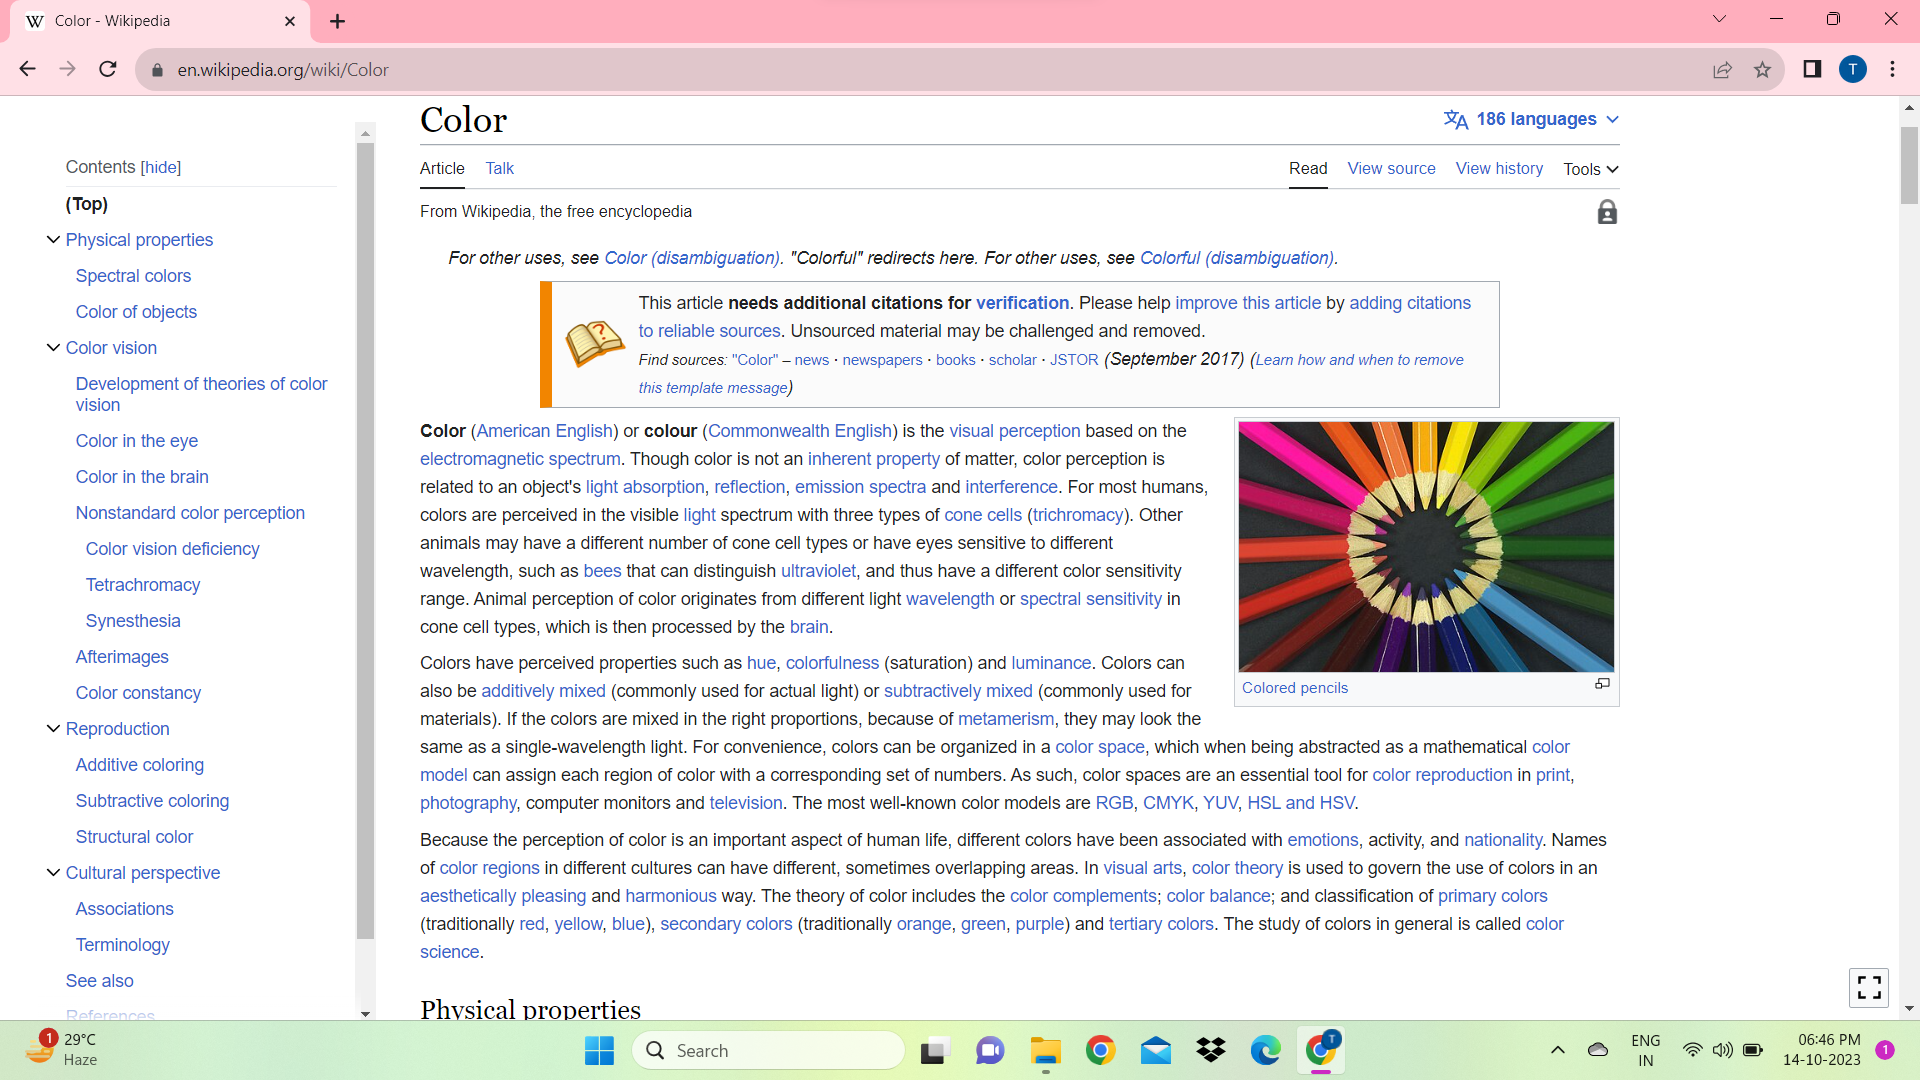Image: (1232, 410, 1622, 680)
Paragraph: (406, 643, 1603, 818), (399, 410, 1217, 632), (401, 828, 1646, 966), (611, 283, 1508, 401), (444, 242, 1361, 276), (63, 373, 341, 414), (65, 496, 308, 529), (412, 198, 721, 222), (63, 850, 239, 884), (406, 99, 535, 140), (78, 537, 274, 563), (73, 464, 227, 494), (58, 787, 235, 813), (56, 639, 186, 673), (76, 751, 205, 781), (65, 229, 231, 252), (56, 155, 222, 177), (65, 928, 192, 956), (76, 574, 218, 598), (1344, 153, 1441, 188), (65, 298, 209, 321), (63, 427, 201, 451), (69, 682, 222, 703), (78, 608, 201, 634), (73, 824, 196, 850), (67, 893, 188, 919), (56, 334, 166, 360), (69, 263, 198, 285), (58, 958, 138, 992), (1450, 160, 1540, 190), (65, 718, 179, 740), (1262, 155, 1335, 177), (58, 194, 127, 216), (481, 153, 529, 183), (408, 157, 470, 179), (1560, 157, 1601, 179)
